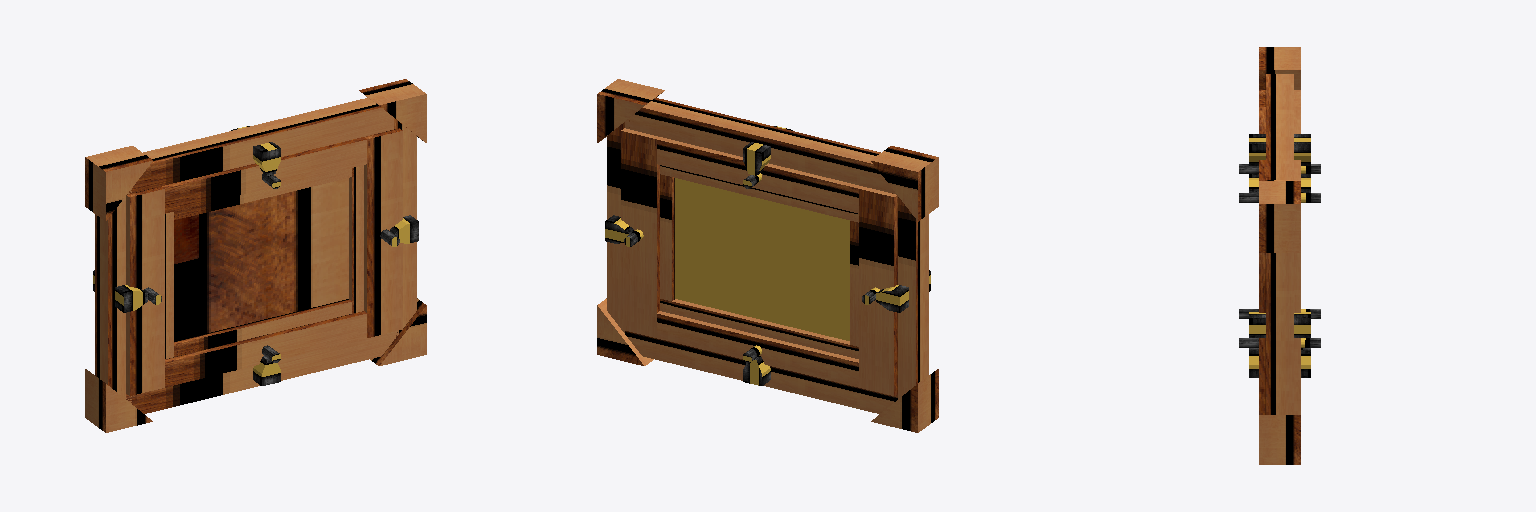
The picture shows the model from 3 angles: view 1: azimuth 30°, elevation 25°; view 2: azimuth 150°, elevation 25°; view 3: azimuth 270°, elevation 25°; orthographic projection.
Visible parts, largest first — view 1: pCube1, pCube15, pCube12, pCube13, pCube11, pCube10, pCube17, pCube16, pCube19, pCube3, pCube18, pCube20 (+9 smaller); view 2: pCube1, pCube15, pCube12, pCube13, pCube11, pCube10, pCube17, pCube16, pCube19, pCube3, pCube18, pCube20 (+9 smaller); view 3: pCube18, pCube21, pCube15, pCube22, pCube12, pCube19, pCylinder1 pCube14, pCylinder4 pCube14, pCube10, pCylinder2 pCube14.
Part boxes in pixels (left/top/right/bottom): pCube1: left=174, top=178, right=348, bottom=340; pCube15: left=127, top=98, right=393, bottom=194; pCube12: left=364, top=128, right=402, bottom=337; pCube13: left=126, top=186, right=164, bottom=395; pCube11: left=165, top=311, right=366, bottom=387; pCube10: left=162, top=137, right=366, bottom=213; pCube17: left=95, top=189, right=131, bottom=403; pCube16: left=126, top=331, right=398, bottom=413; pCube19: left=85, top=146, right=152, bottom=221; pCube3: left=174, top=299, right=351, bottom=356; pCube18: left=394, top=118, right=416, bottom=339; pCube20: left=85, top=369, right=152, bottom=432; pCube1: left=675, top=178, right=849, bottom=340; pCube15: left=625, top=98, right=896, bottom=194; pCube12: left=621, top=128, right=659, bottom=337; pCube13: left=859, top=186, right=897, bottom=395; pCube11: left=657, top=311, right=858, bottom=387; pCube10: left=657, top=137, right=861, bottom=213; pCube17: left=892, top=193, right=928, bottom=398; pCube16: left=625, top=331, right=897, bottom=413; pCube19: left=871, top=146, right=938, bottom=221; pCube3: left=672, top=299, right=849, bottom=356; pCube18: left=607, top=120, right=629, bottom=332; pCube20: left=871, top=369, right=938, bottom=432; pCube18: left=1266, top=253, right=1293, bottom=414; pCube21: left=1259, top=180, right=1300, bottom=252; pCube15: left=1266, top=74, right=1293, bottom=179; pCube22: left=1259, top=415, right=1300, bottom=464; pCube12: left=1259, top=253, right=1300, bottom=414; pCube19: left=1259, top=47, right=1300, bottom=89; pCylinder1 pCube14: left=1249, top=134, right=1310, bottom=165; pCylinder4 pCube14: left=1249, top=312, right=1310, bottom=337; pCube10: left=1259, top=107, right=1300, bottom=179; pCylinder2 pCube14: left=1249, top=348, right=1310, bottom=377.
Size of the model in its own units: 2.7 by 2.1 by 0.6.
Materials: 1 (1 with a texture image).